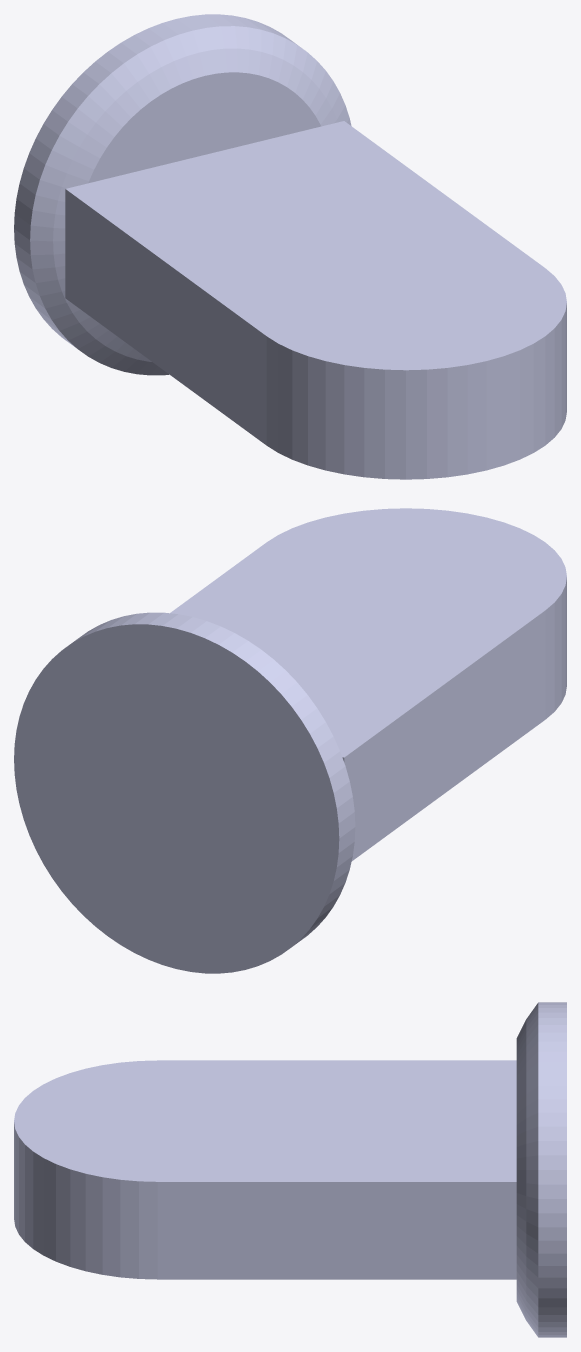
Rendered from tile_chandra.glb.
The picture shows the model from 3 angles, top to bottom: view 1: azimuth 30°, elevation 25°; view 2: azimuth 150°, elevation 25°; view 3: azimuth 270°, elevation 25°; orthographic projection. The views are drawn at different scales.
Parts seen in each view (by area): view 1: geometry_0; view 2: geometry_0; view 3: geometry_0.
Boxes of the visible parts, x1,y1,x2,y2 form: geometry_0: (14,14,566,479); geometry_0: (14,508,566,973); geometry_0: (14,1002,566,1337).
Size of the model in its own units: 0.028 by 0.028 by 0.0462.
